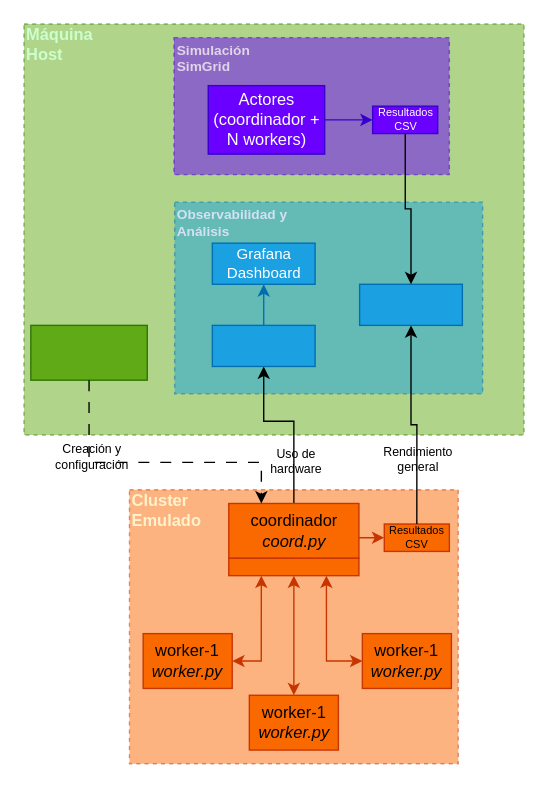
The diagram is 548 pixels wide and 788 high, and some of its shapes have lost their labels. The centre of each missing label's shape, as x and y in pixels:
"Jupyter Notebook" goes at [410,304].
"Prometheus" goes at [263,345].
"Vagrant + Ansible" goes at [88,352].
"ZeroMQ" goes at [293,566].
